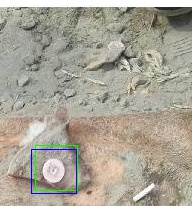text: (35, 145, 77, 190)
